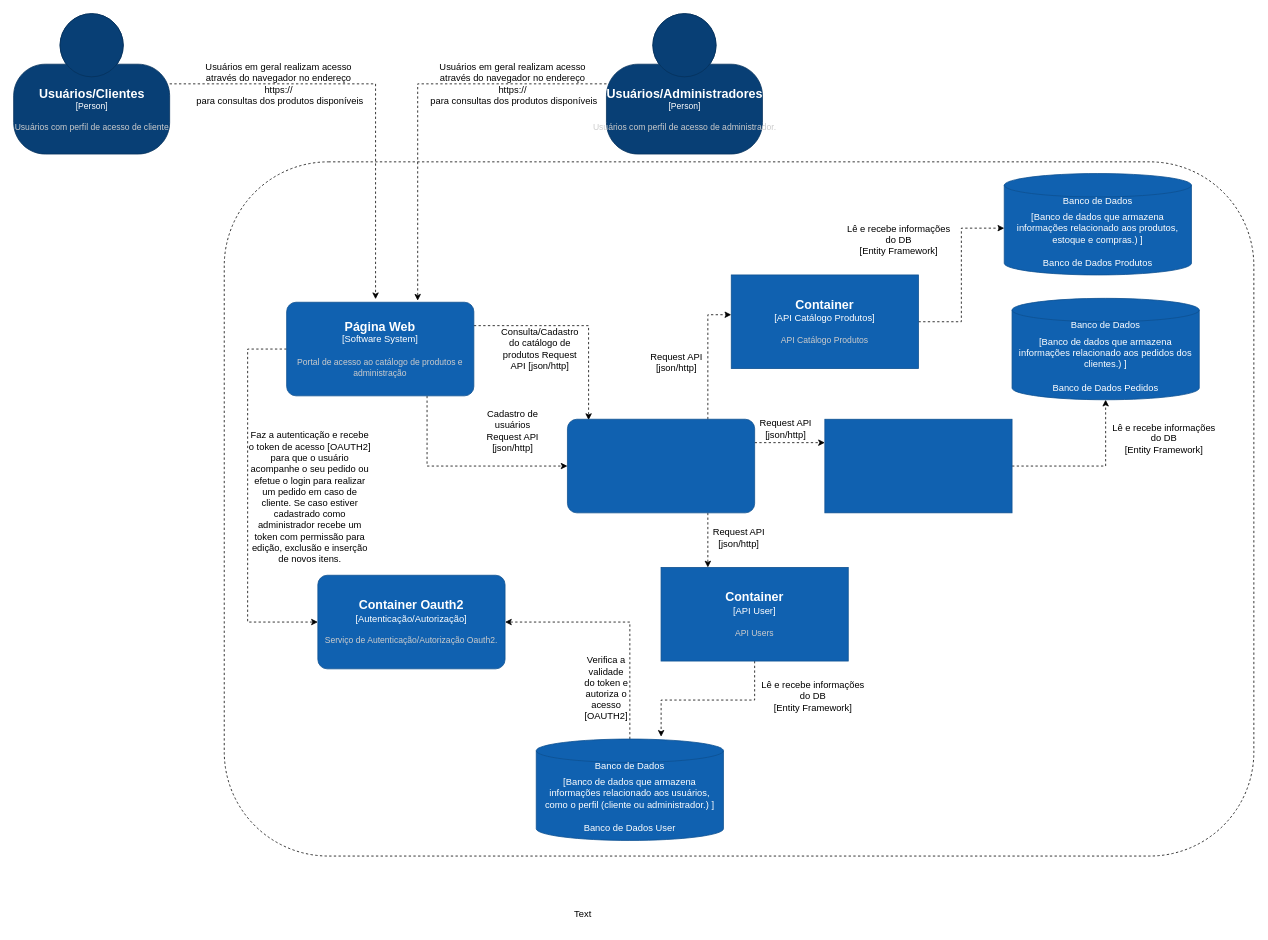
The diagram is 1268 pixels wide and 940 high, and some of its shapes have lost their labels. The shapes that lost their labels are listed below. From the top down, each one's box as (x1, y1, x2, y2) in pixels, then its label:
(567, 418, 755, 513): Container [API Gateway request Ocelot] API Gateway
(824, 418, 1012, 513): Container [API Pedidos] API Pedidos
